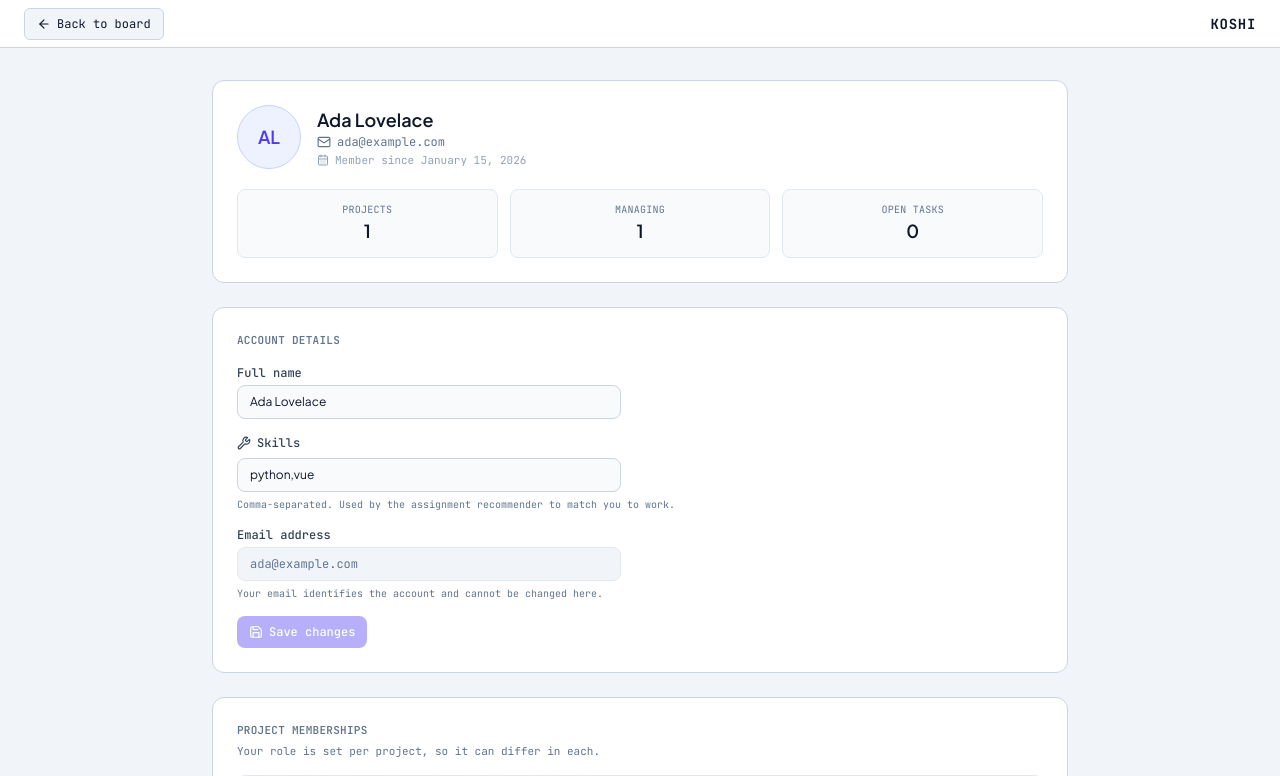
it: editing › sends the edited fields and updates the store
Replace the text in the field labelled "Full name" with "Ada L." at (429, 402), box [237, 384, 621, 418]
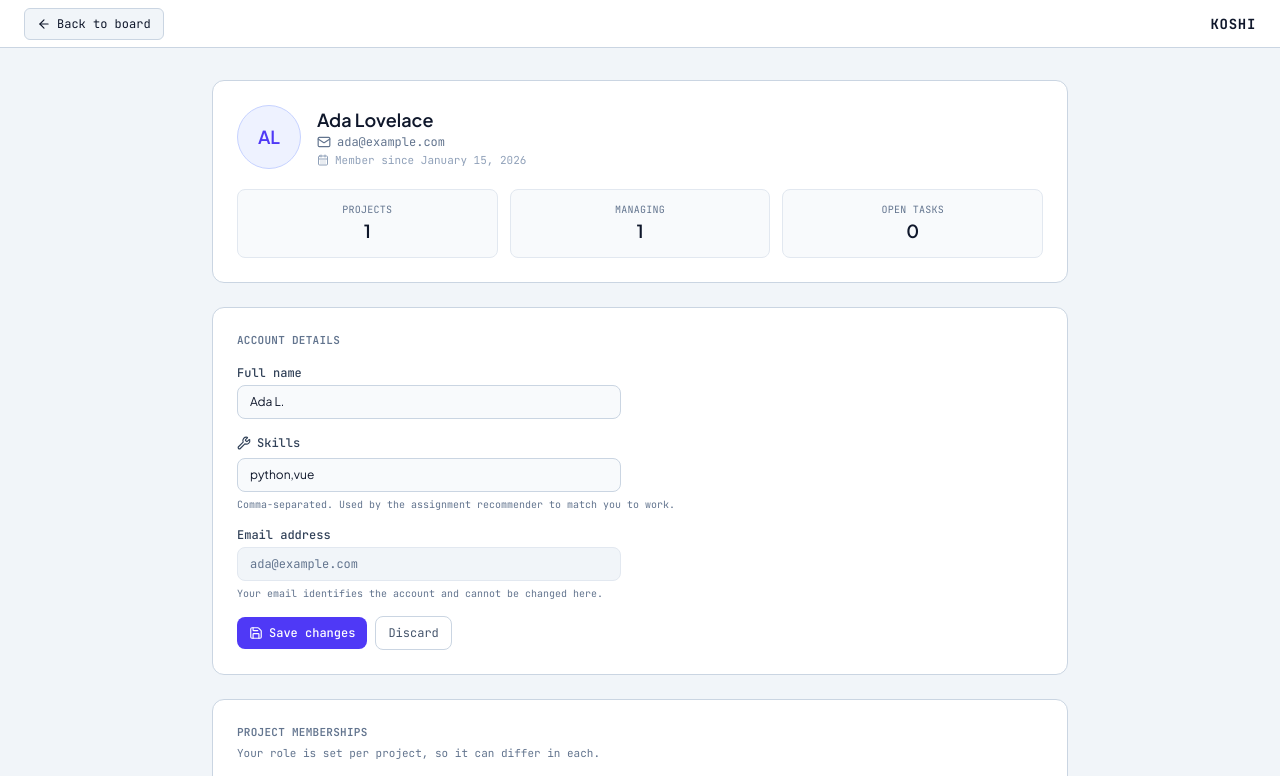
Replace the text in the field labelled "Skills" with "rust" at (429, 474), box [237, 458, 621, 492]
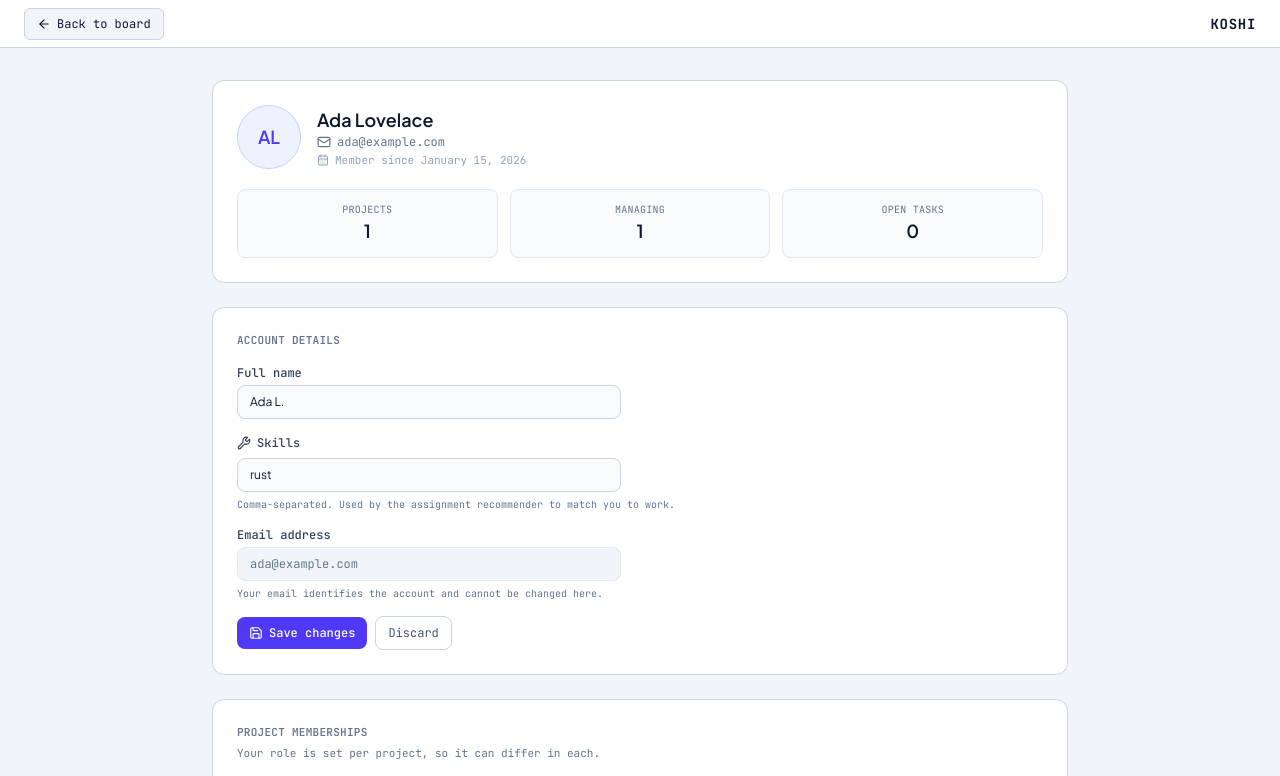
Submit the form, box [237, 364, 675, 650]
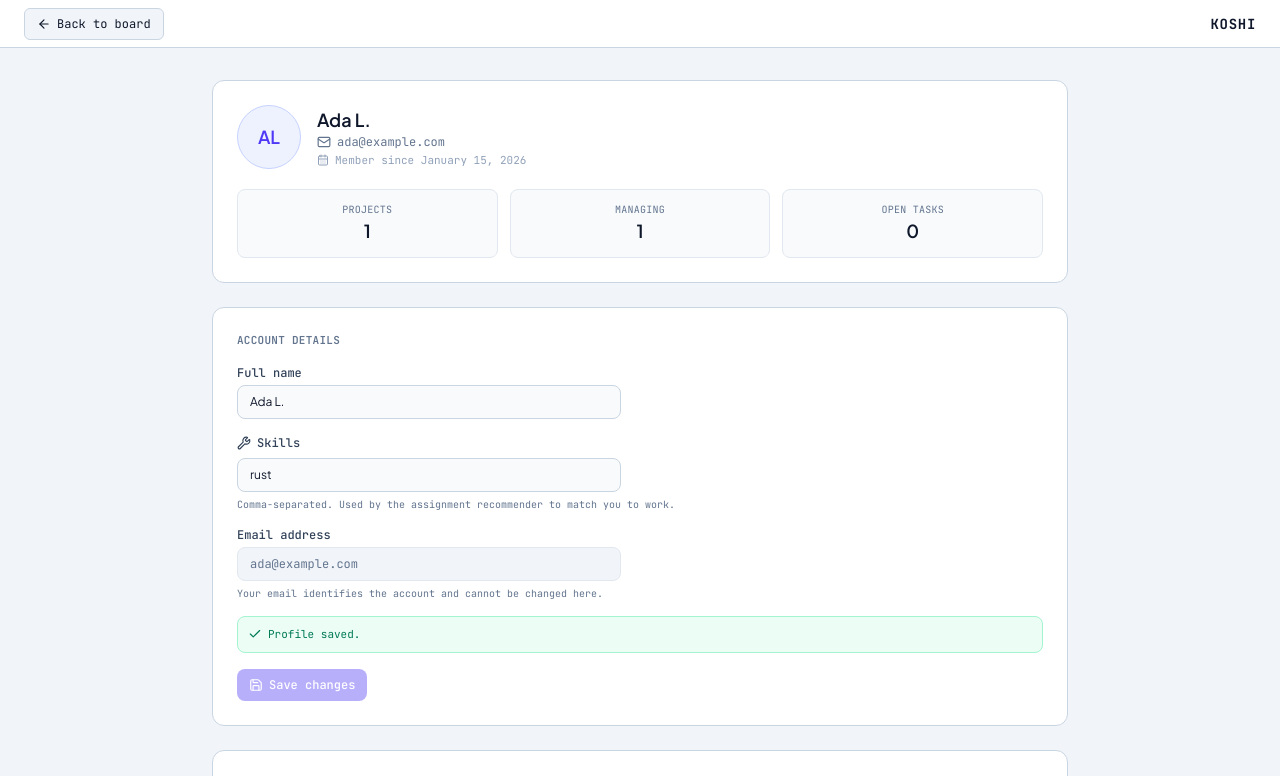
expect the text "Profile saved." is shown: met, box [268, 627, 360, 642]
